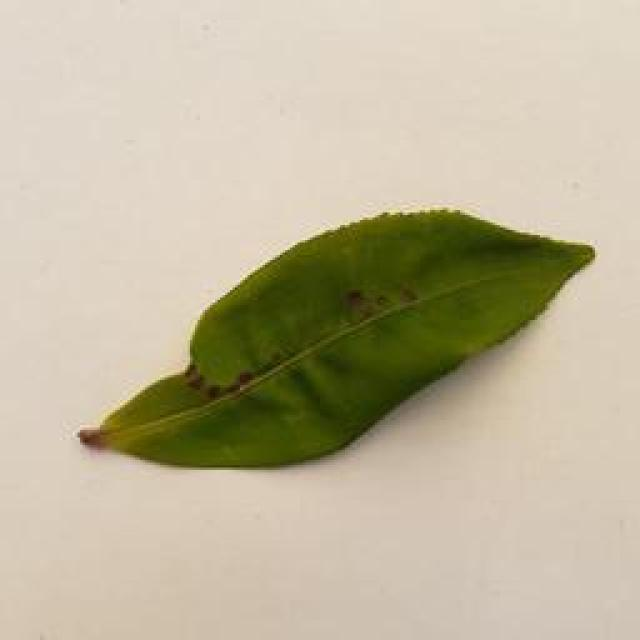Helopeltis: (70, 204, 598, 473)
